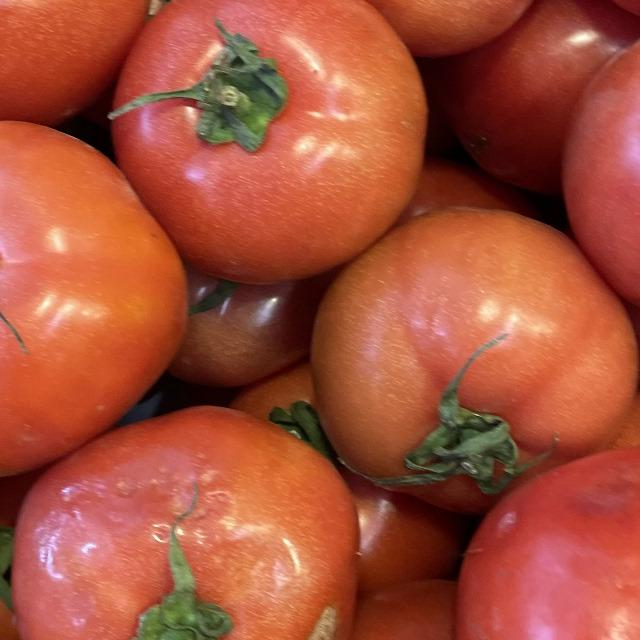tomato: (0, 367, 415, 640), (77, 0, 447, 275), (0, 82, 197, 465), (450, 417, 640, 640), (545, 0, 640, 342)
